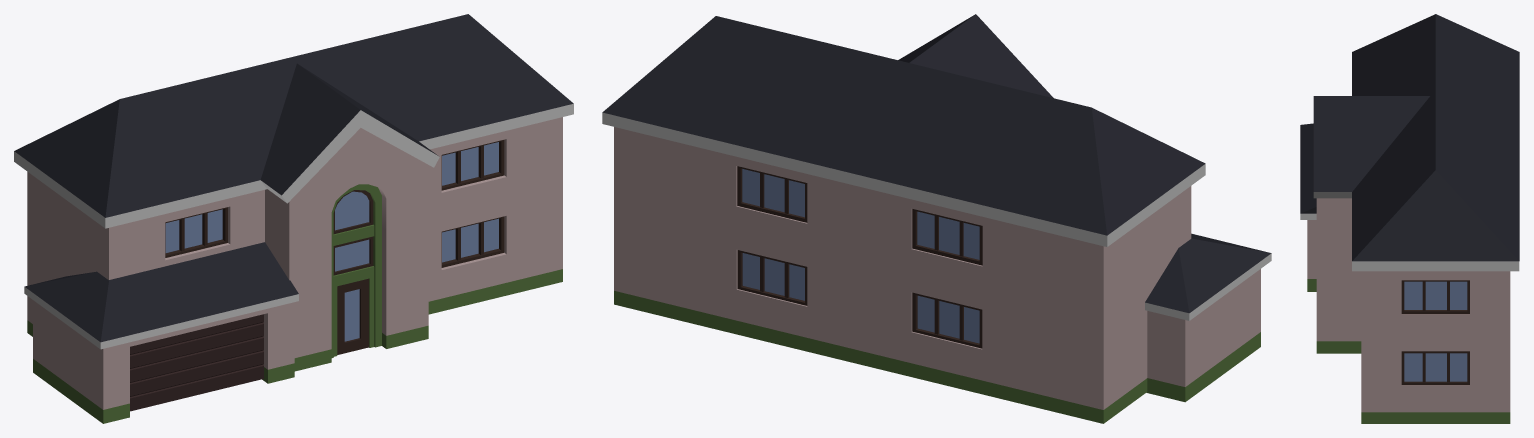
Rendered from FamilyHouse_05.fbx.
The picture shows the model from 3 angles, left to right: view 1: azimuth 30°, elevation 25°; view 2: azimuth 150°, elevation 25°; view 3: azimuth 270°, elevation 25°; orthographic projection. The views are drawn at different scales.
Parts seen in each view (by area): view 1: FamilyHouse_05; view 2: FamilyHouse_05; view 3: FamilyHouse_05.
Part boxes in pixels (box(x1,y1,x2,y2)): FamilyHouse_05: box(14, 14, 573, 423); FamilyHouse_05: box(602, 14, 1271, 423); FamilyHouse_05: box(1300, 14, 1519, 423).
Size of the model in its own units: 18.05 by 8.68 by 7.46.
